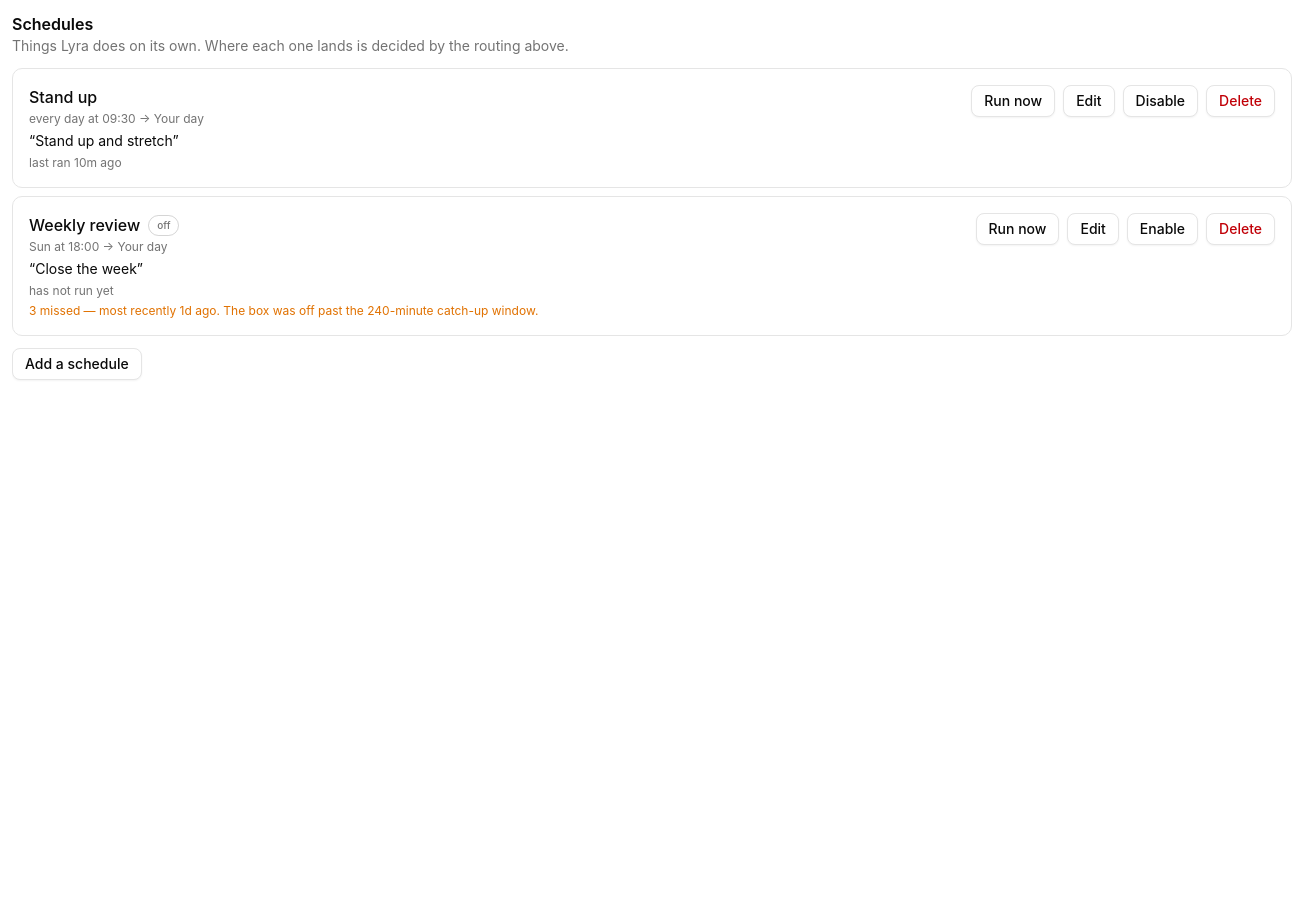
Test: editing one › opens seeded with what is already saved
The image size is (1292, 912).
Click the button "Edit" in the row of "every day at 09:30" at (1089, 101), box [1063,85,1114,117]
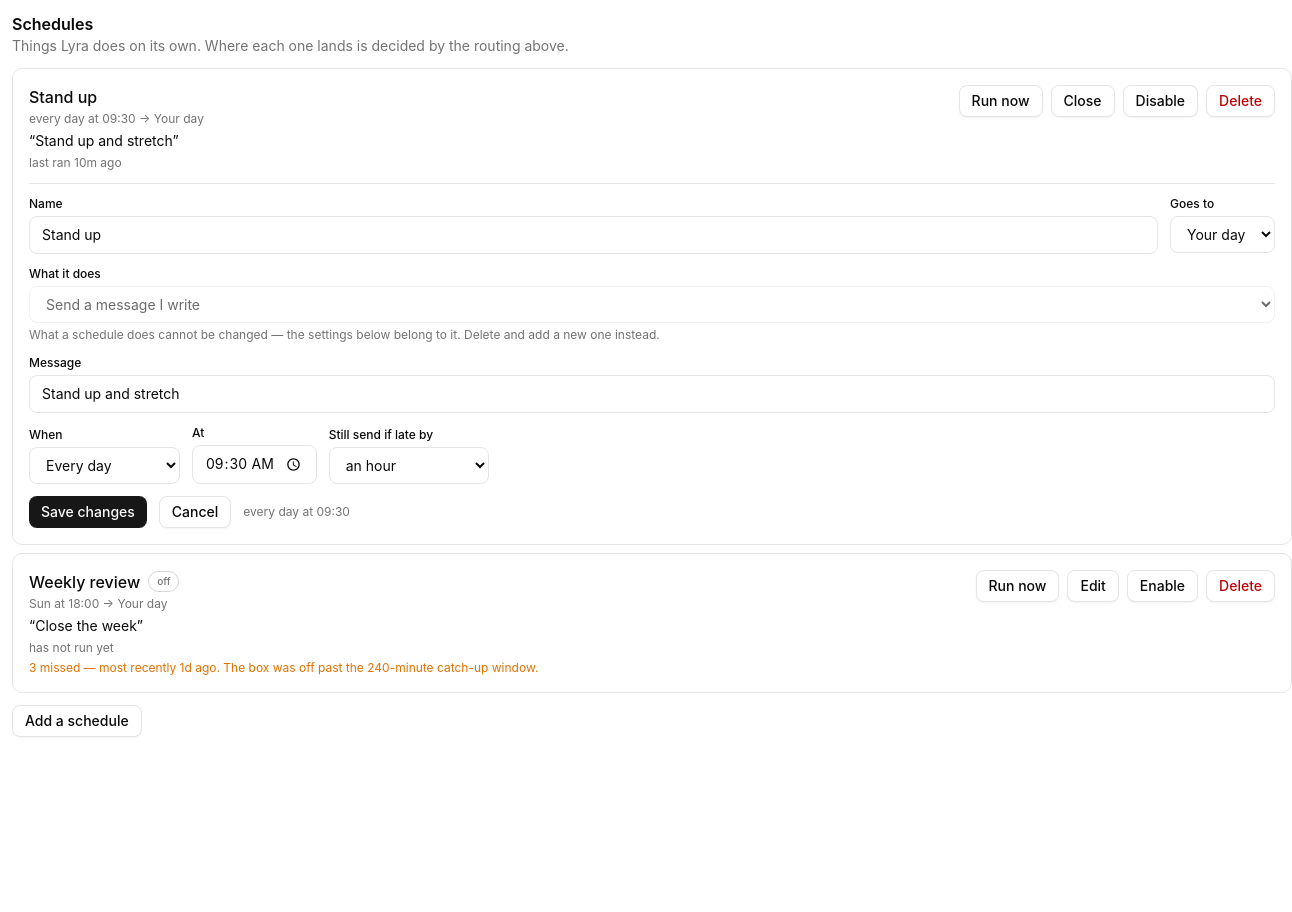
Now the field labelled "Name" holds "Stand up", box [29,216,1158,254]
Now the field labelled "Message" holds "Stand up and stretch", box [29,375,1275,413]
Now the dropdown labelled "When" shows "Every day", box [29,447,180,484]
